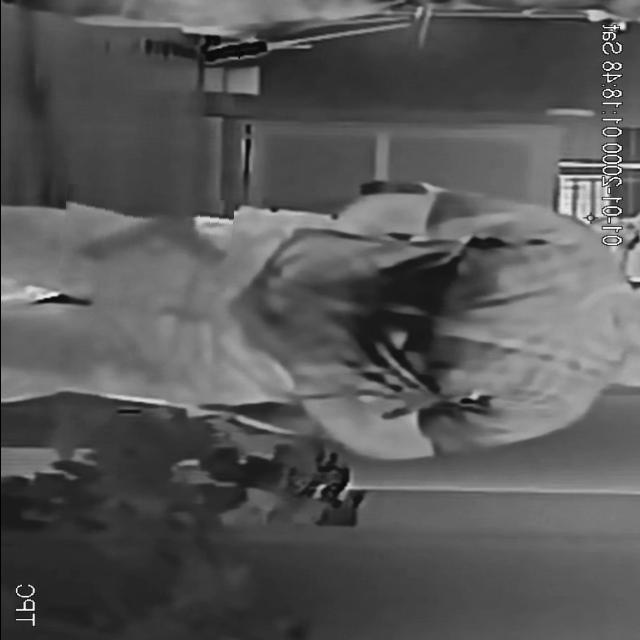Weapon: (60, 188, 232, 290)
